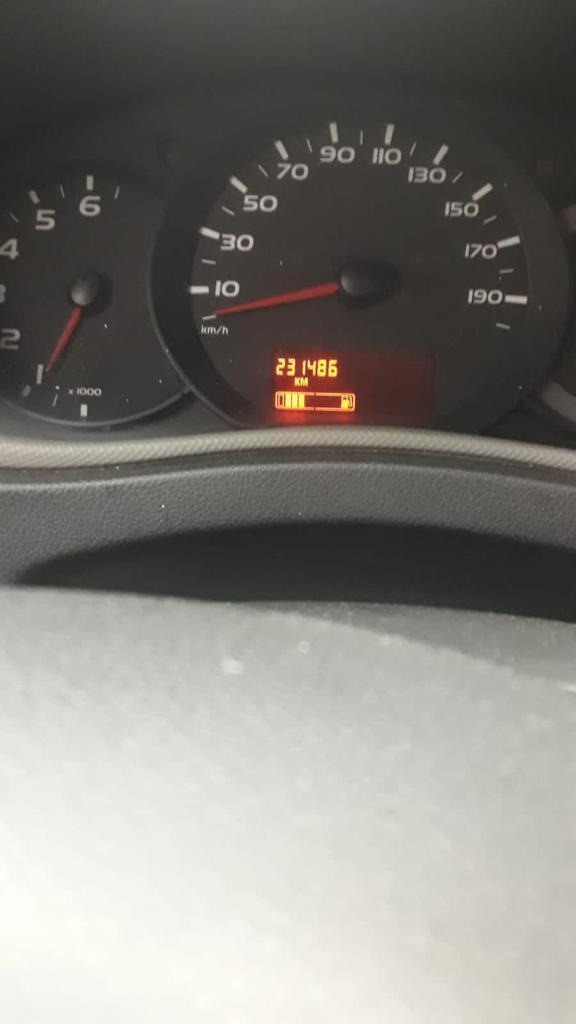1: (301, 358, 306, 376)
2: (275, 356, 285, 375)
3: (286, 357, 295, 376)
4: (307, 358, 316, 375)
6: (328, 358, 337, 377)
8: (317, 358, 326, 376)
X: (300, 376, 308, 387), (294, 376, 300, 387)
odometer: (268, 348, 437, 426)
